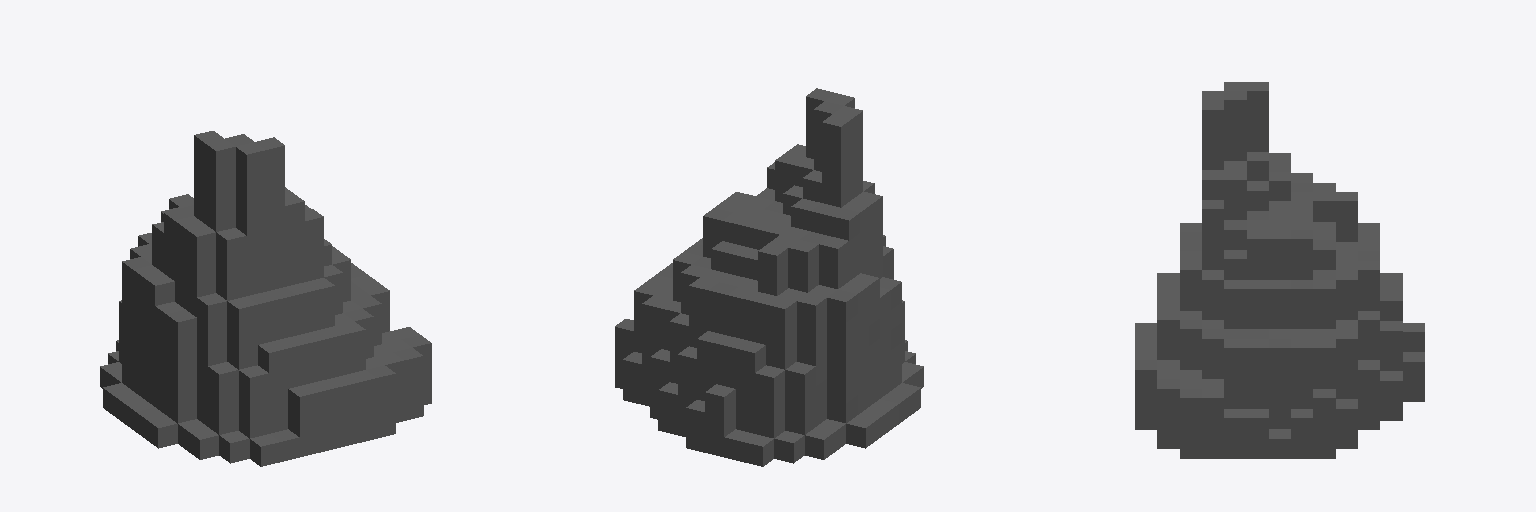
The picture shows the model from 3 angles: view 1: azimuth 30°, elevation 25°; view 2: azimuth 150°, elevation 25°; view 3: azimuth 270°, elevation 25°; orthographic projection.
Parts seen in each view (by area): view 1: object 1; view 2: object 1; view 3: object 1.
Boxes of the visible parts, box(x1,y1,x2,y2) form: object 1: box(100, 131, 431, 466); object 1: box(615, 88, 923, 466); object 1: box(1135, 82, 1424, 458).
Bounding box in the file's own units: 1.3 × 1.4 × 1.3.
Materials: 1 (1 with a texture image).